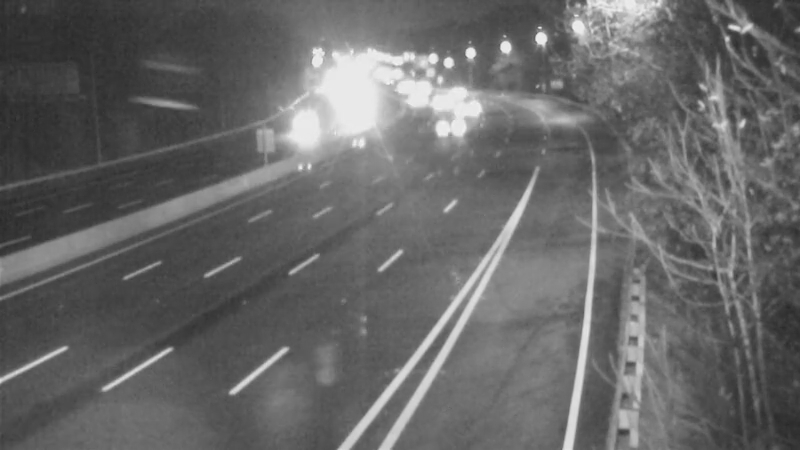vehicle: (443, 86, 493, 136), (430, 101, 480, 151), (273, 102, 323, 152)
